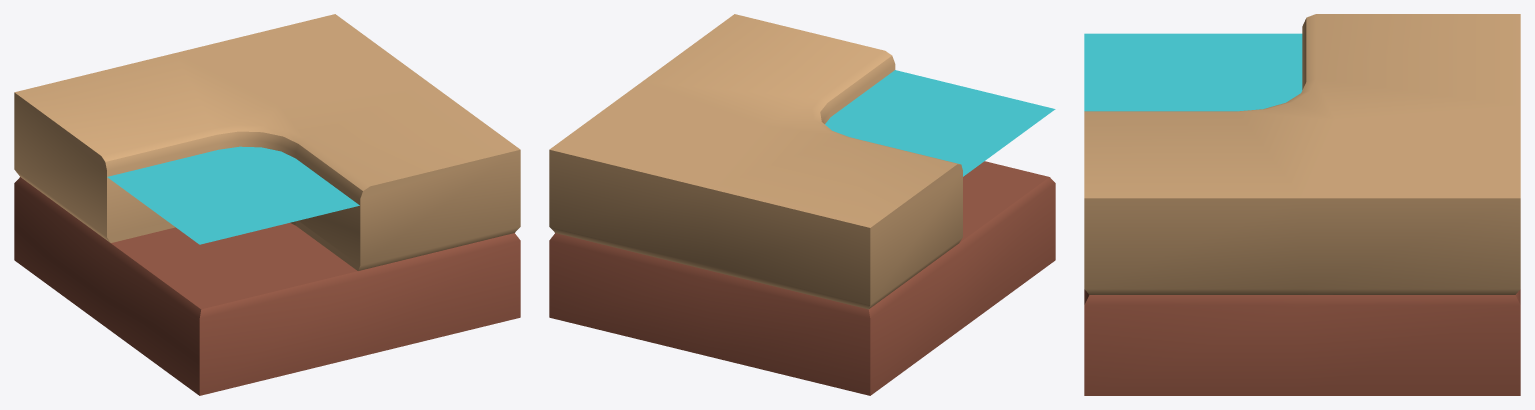
File: kaykit-square-sand-waterinnercorner-nosides.glb
3 renders of one model, left to right at view 1: azimuth 30°, elevation 25°; view 2: azimuth 150°, elevation 25°; view 3: azimuth 270°, elevation 25°, orthographic. The views are drawn at different scales.
Parts seen in each view (by area): view 1: square_sand_waterInnerCorner_noSides; view 2: square_sand_waterInnerCorner_noSides; view 3: square_sand_waterInnerCorner_noSides.
Boxes of the visible parts, x1,y1,x2,y2 form: square_sand_waterInnerCorner_noSides: [14, 14, 520, 395]; square_sand_waterInnerCorner_noSides: [549, 14, 1055, 395]; square_sand_waterInnerCorner_noSides: [1084, 14, 1520, 395].
Size of the model in its own units: 2 by 1 by 2.
